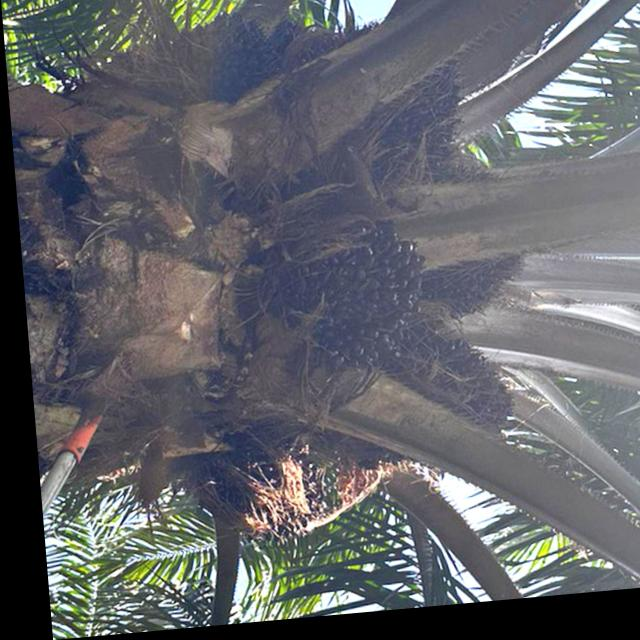unripe: (249, 213, 429, 393), (394, 320, 510, 455), (356, 66, 457, 179), (203, 6, 281, 109)
